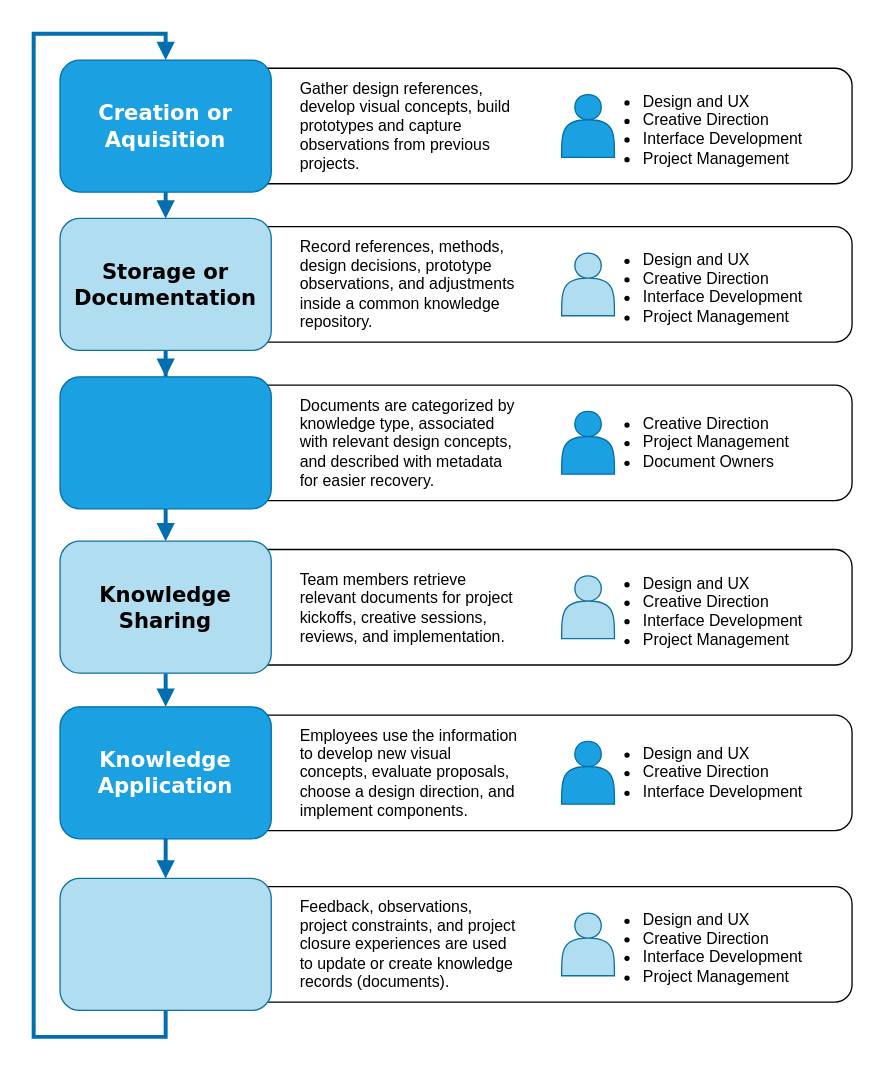
The diagram is 875 pixels wide and 1072 high, and some of its shapes have lost their labels. Each missing label, with the box of its shape:
Organization or Classification: (59, 376, 271, 509)
Updating or Continuous Improvement: (59, 877, 271, 1010)
